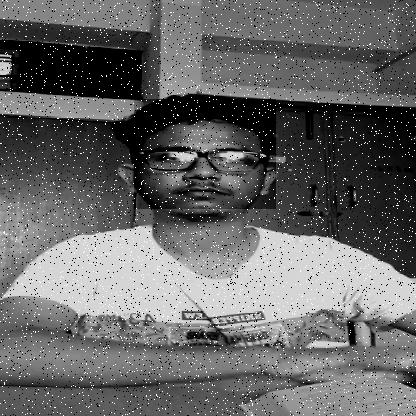Normal: (134, 99, 276, 209)
